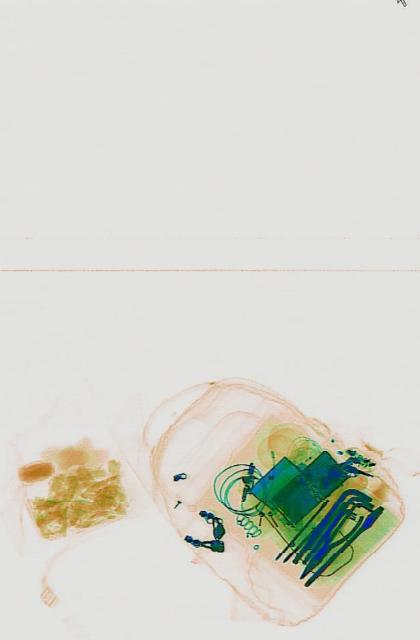Pliers: (290, 494, 363, 590)
